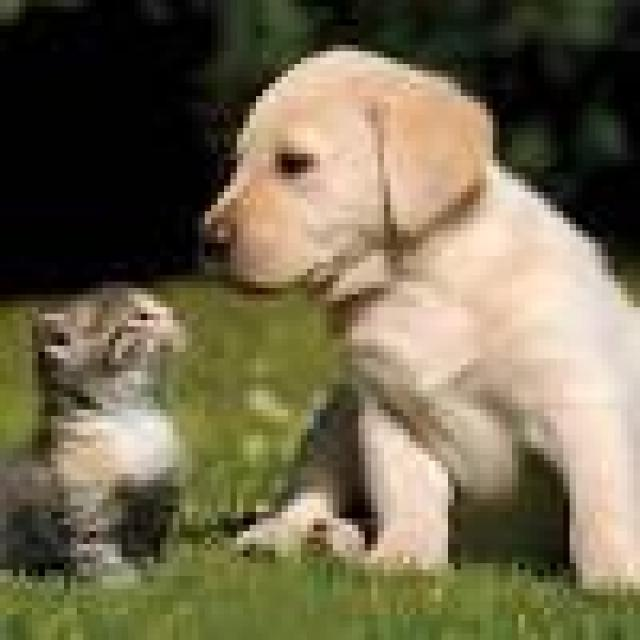dog: (196, 35, 640, 600), (4, 276, 202, 598)
